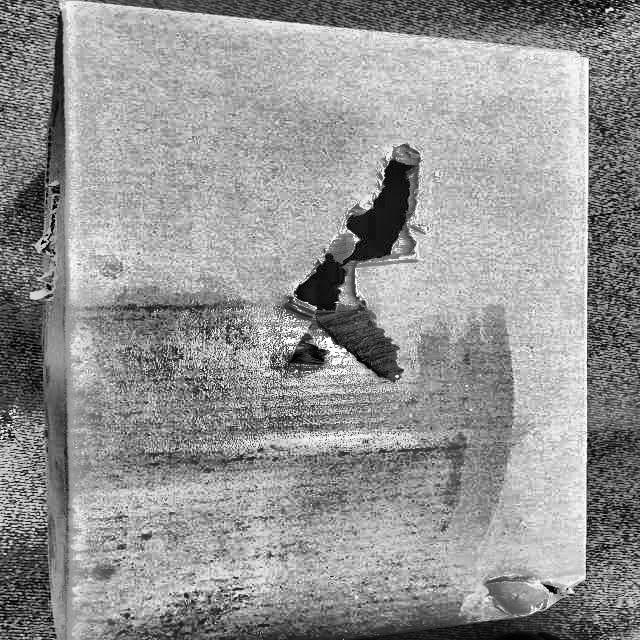box: (24, 0, 611, 639)
hole: (287, 141, 452, 387)
